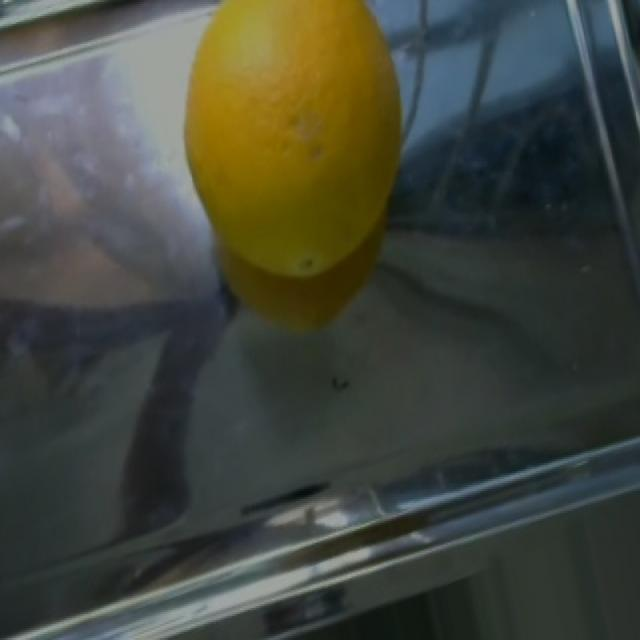Fruit: (161, 0, 427, 350)
